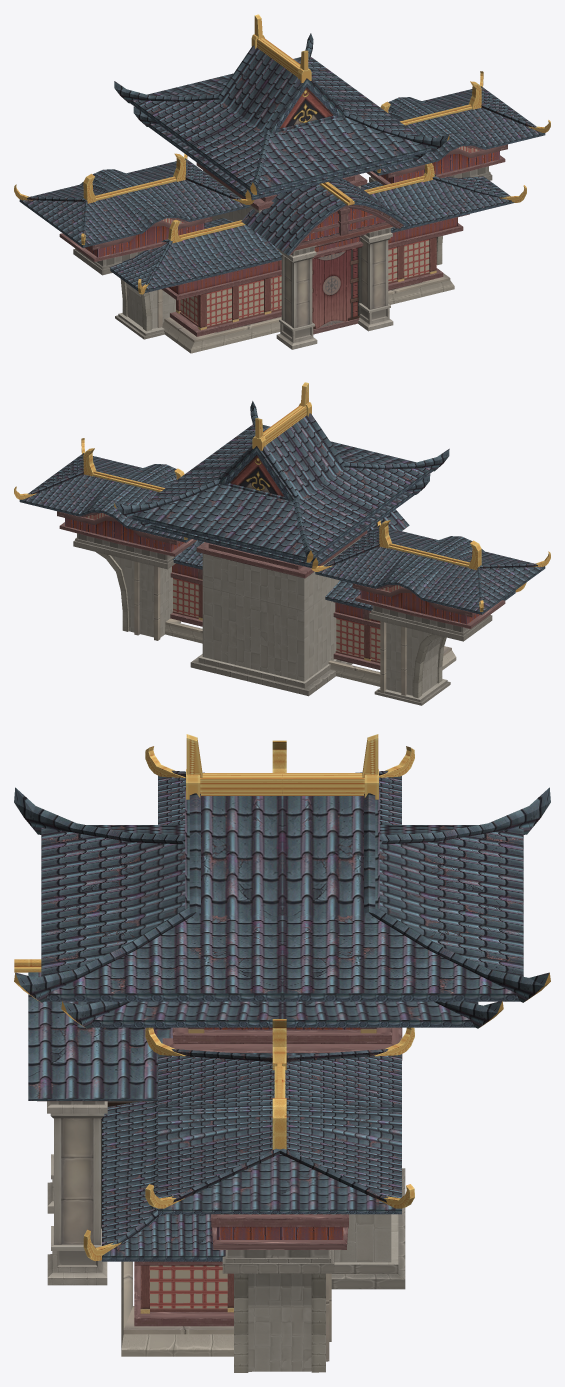
File: mod_zlc_jianzhu013 _xy.FBX
3 views of the same model, one above another, from view 1: azimuth 30°, elevation 25°; view 2: azimuth 150°, elevation 25°; view 3: azimuth 270°, elevation 25° (orthographic). The views are drawn at different scales.
Parts seen in each view (by area): view 1: mod_zlc_jianzhu013 _xy; view 2: mod_zlc_jianzhu013 _xy; view 3: mod_zlc_jianzhu013 _xy.
Boxes of the visible parts, left/top/right/bottom form: mod_zlc_jianzhu013 _xy: left=14, top=14, right=550, bottom=353; mod_zlc_jianzhu013 _xy: left=14, top=382, right=550, bottom=705; mod_zlc_jianzhu013 _xy: left=14, top=734, right=550, bottom=1372.
Size of the model in its own units: 4023 by 2129 by 2066.
